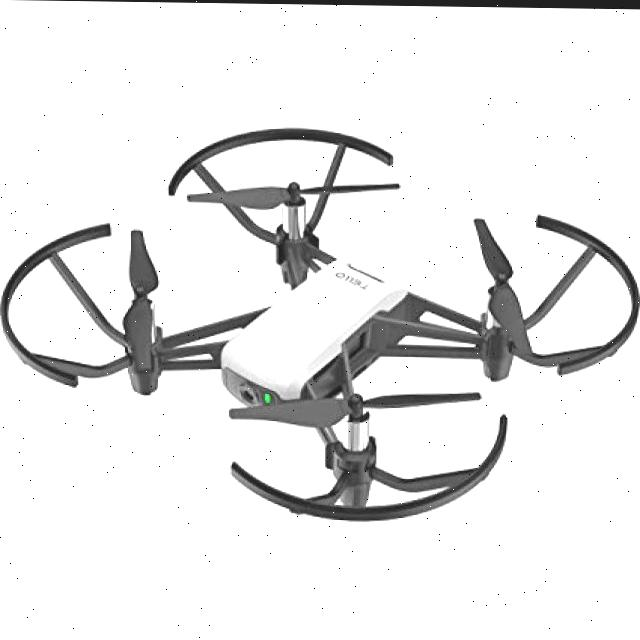drone: (16, 115, 638, 554)
